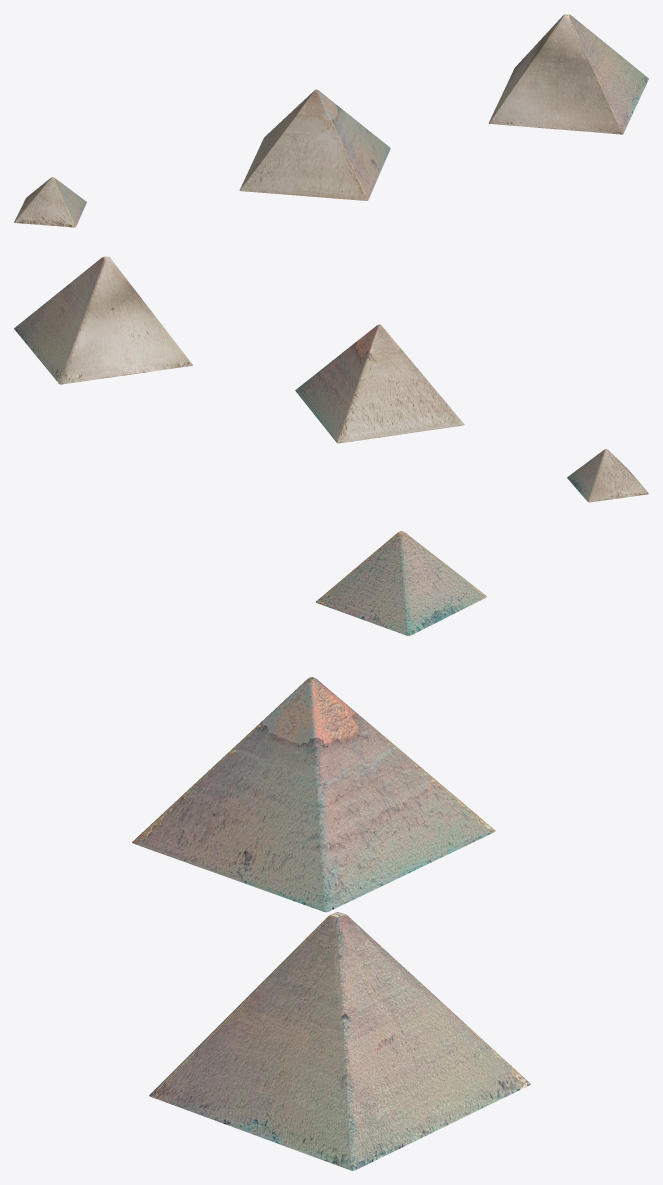
File: 20250702_Pyramyds_for_mb.glb
3 renders of one model, top to bottom at view 1: azimuth 30°, elevation 25°; view 2: azimuth 150°, elevation 25°; view 3: azimuth 270°, elevation 25°, orthographic. The views are drawn at different scales.
Visible parts, largest first — view 1: Model; view 2: Model; view 3: Model.
Part boxes in pixels (x1,y1,x2,y2): Model: (14, 14, 648, 227); Model: (14, 256, 648, 502); Model: (132, 531, 530, 1170).
Bounding box in the file's own units: 22.93 × 3.04 × 6.36.
Materials: 1 (1 with a texture image).
